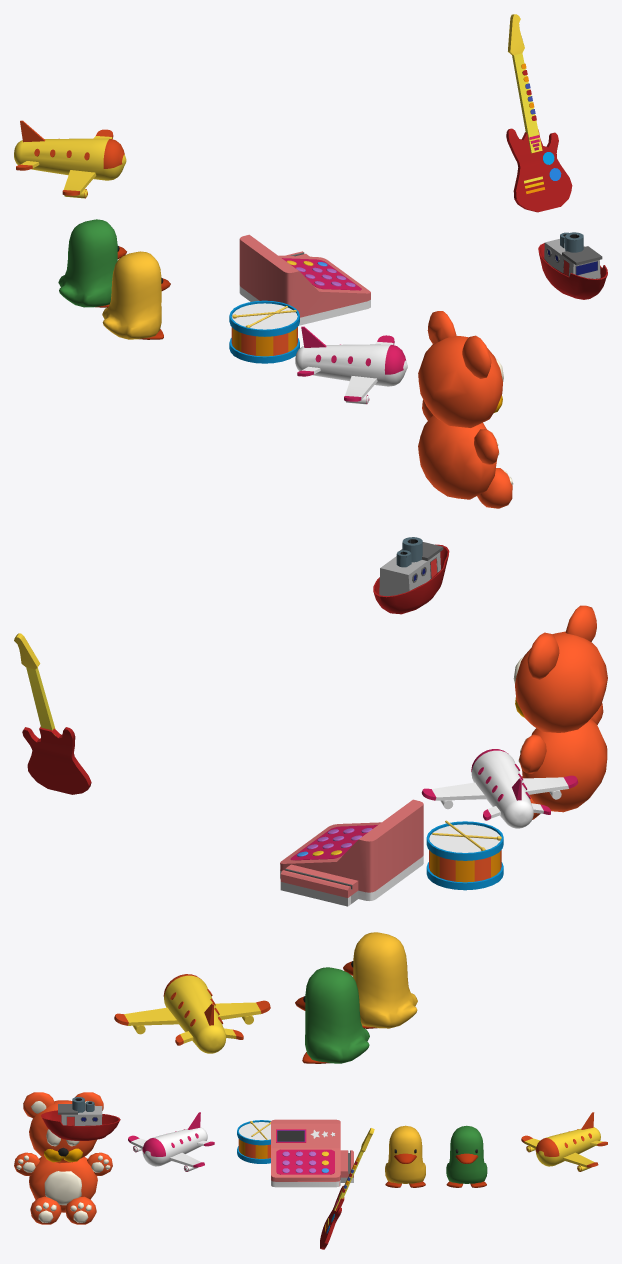
File: toys.fbx
The picture shows the model from 3 angles, top to bottom: view 1: azimuth 30°, elevation 25°; view 2: azimuth 150°, elevation 25°; view 3: azimuth 270°, elevation 25°; orthographic projection. The views are drawn at different scales.
Visible parts, largest first — view 1: polySurface691, polySurface188, polySurface706, polySurface719, polySurface721, polySurface153, polySurface739, polySurface192, polySurface110; view 2: polySurface691, polySurface188, polySurface739, polySurface721, polySurface719, polySurface153, polySurface192, polySurface706, polySurface110; view 3: polySurface691, polySurface188, polySurface110, polySurface719, polySurface721, polySurface739, polySurface153, polySurface192, polySurface706.
Part boxes in pixels (x1,y1,x2,y2): polySurface691: (418, 311, 513, 508); polySurface188: (239, 234, 370, 325); polySurface706: (506, 14, 572, 212); polySurface719: (295, 326, 407, 404); polySurface721: (14, 120, 126, 198); polySurface153: (102, 251, 170, 339); polySurface739: (58, 219, 126, 307); polySurface192: (229, 300, 299, 363); polySurface110: (538, 232, 607, 299); polySurface691: (513, 605, 607, 819); polySurface188: (280, 799, 423, 906); polySurface739: (295, 967, 369, 1063); polySurface721: (114, 974, 270, 1053); polySurface719: (421, 749, 578, 828); polySurface153: (343, 932, 417, 1028); polySurface192: (426, 820, 503, 890); polySurface706: (14, 633, 91, 794); polySurface110: (373, 537, 449, 614); polySurface691: (14, 1092, 112, 1224); polySurface188: (271, 1119, 353, 1187); polySurface110: (41, 1097, 120, 1140); polySurface719: (128, 1112, 214, 1171); polySurface721: (521, 1112, 607, 1171); polySurface739: (446, 1125, 487, 1187); polySurface153: (385, 1125, 425, 1187); polySurface192: (237, 1120, 270, 1163); polySurface706: (320, 1128, 374, 1249).
Bounding box in the file's own units: 76.11 × 46.23 × 136.
